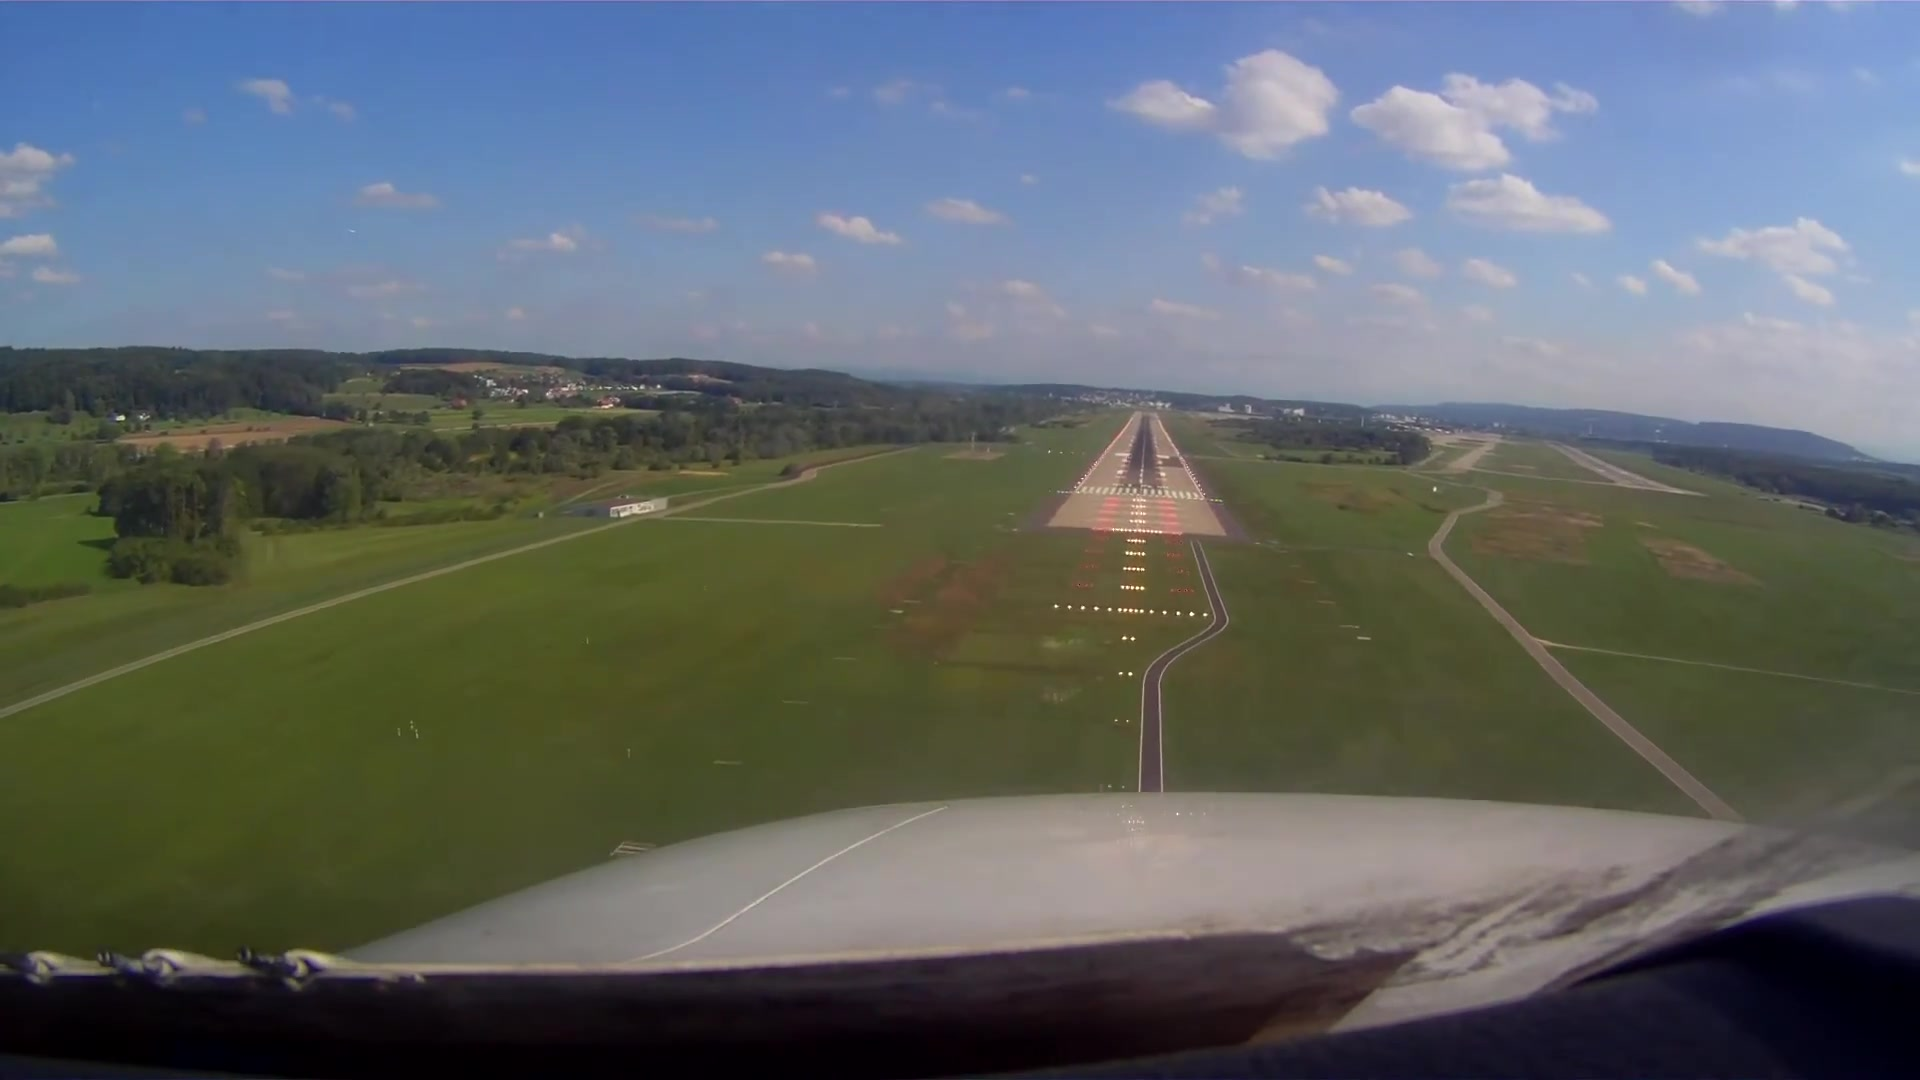entrance: (1073, 484, 1209, 500)
runway: (1062, 410, 1212, 506), (1568, 444, 1687, 495)
